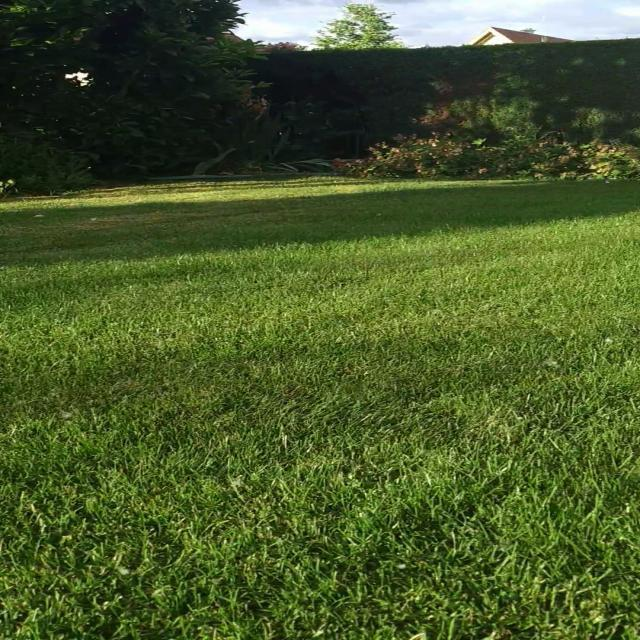lawn: (0, 179, 640, 640)
